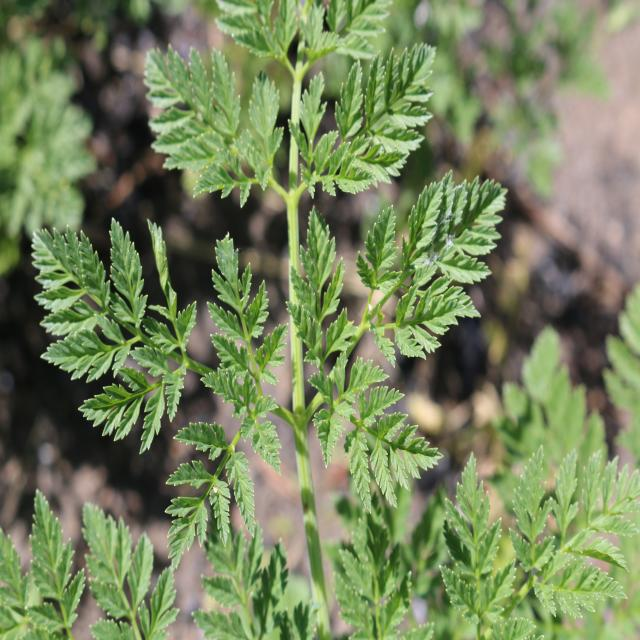Poisonous-Hemlock: (155, 0, 502, 640), (0, 228, 195, 640)
